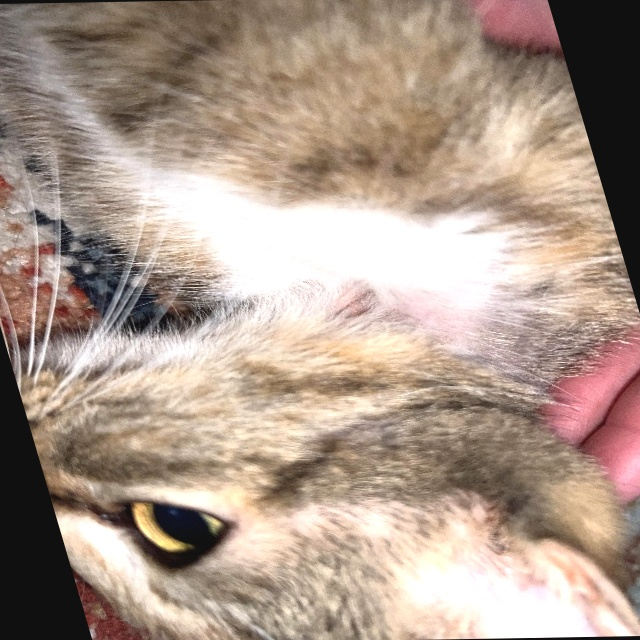hairloss: (298, 278, 528, 362)
